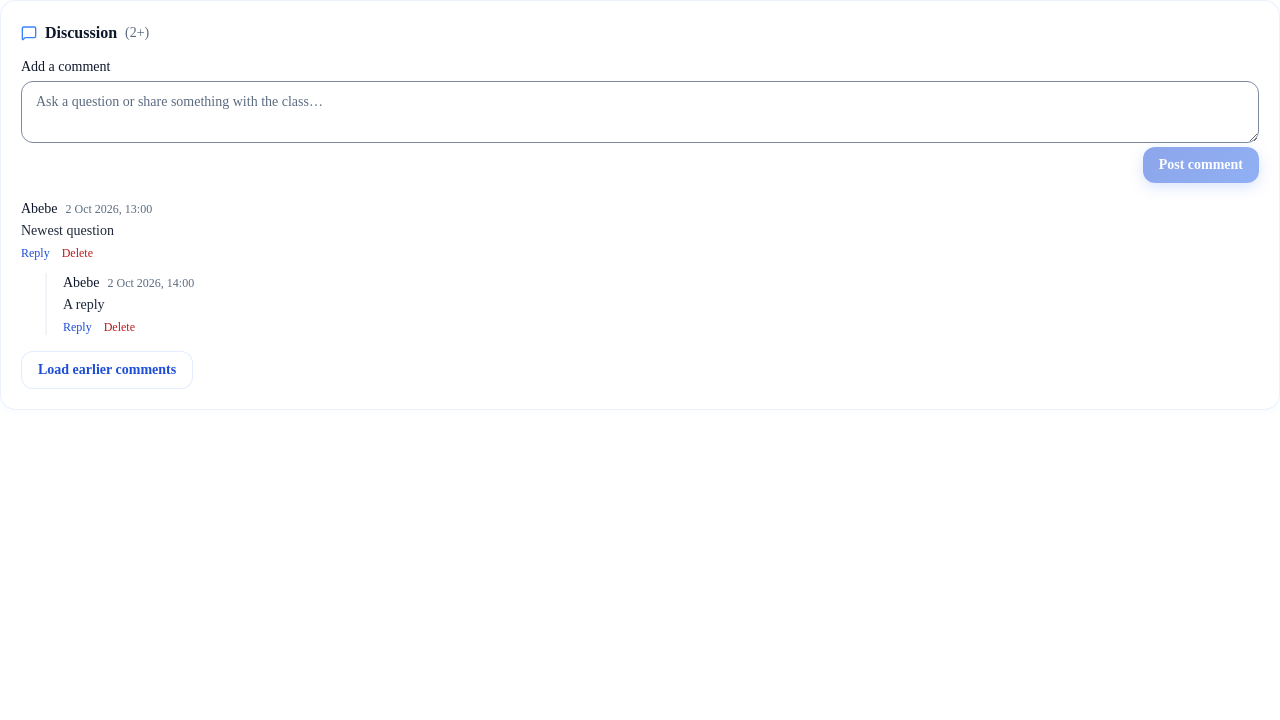
Test: CommentsSection › keeps a discussion that drops off the live page and shows a reply posted under an earlier one
Click the button "Load earlier comments" at (107, 370), box [21,351,193,389]
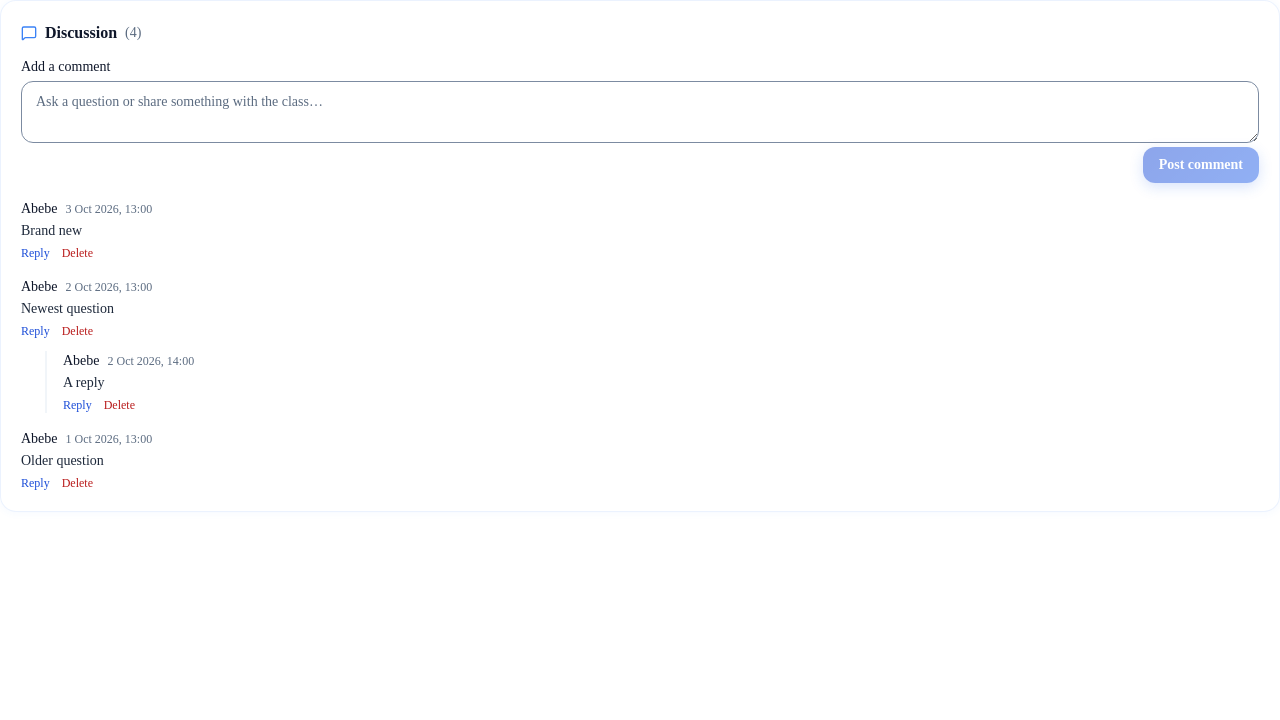
Expected: the text "Newest question" is shown, [21,301,114,316]
Now the text "Older question" is shown, box [21,453,104,468]
Now the text "Brand new" is shown, box [21,223,82,238]
Click the button "Reply" below "A reply" at (77, 405), box [63,397,92,413]
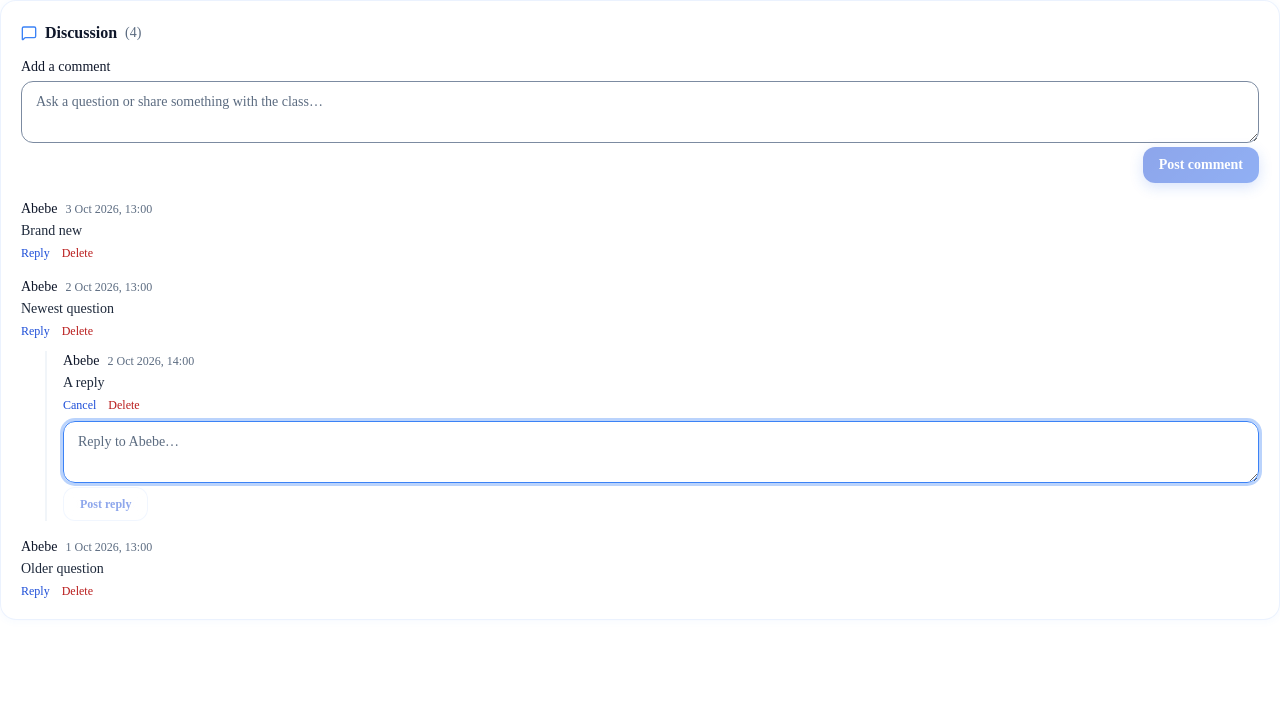
Type "My reply" into the text box labelled "Reply to Abebe" at (661, 452), box [63,421,1259,483]
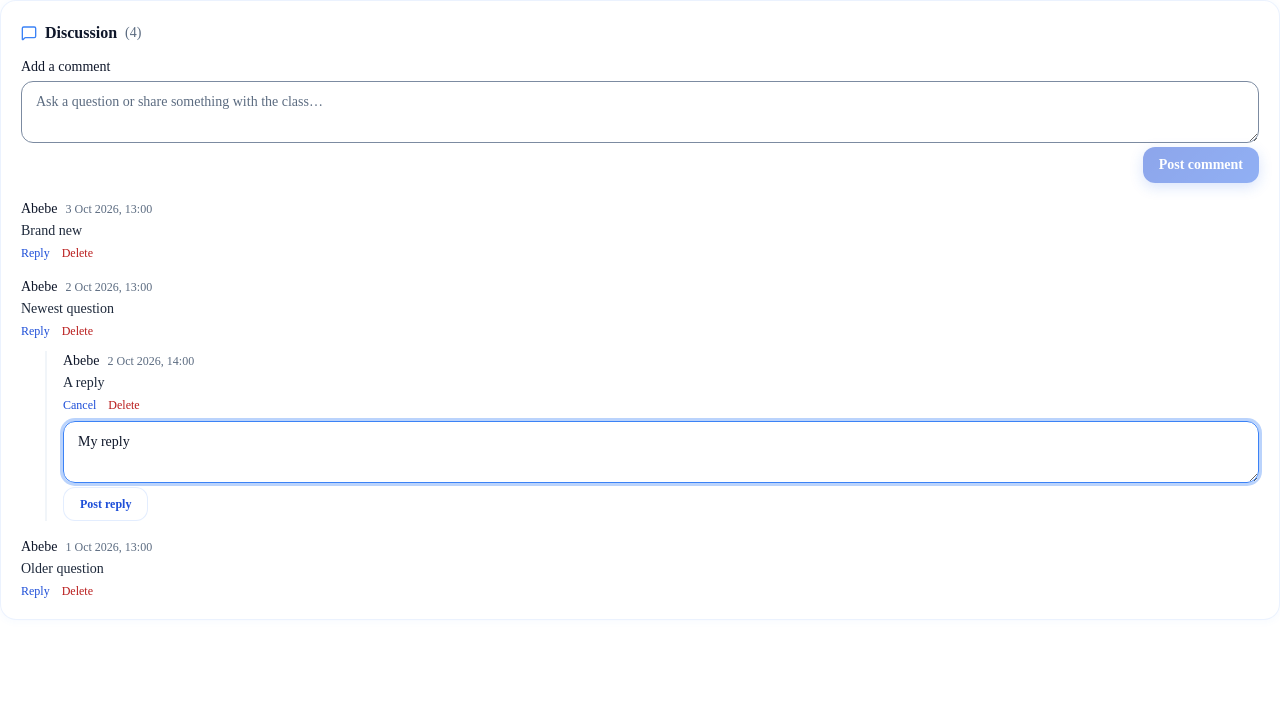
Click the button "Post reply" at (106, 504), box [63,487,148,521]
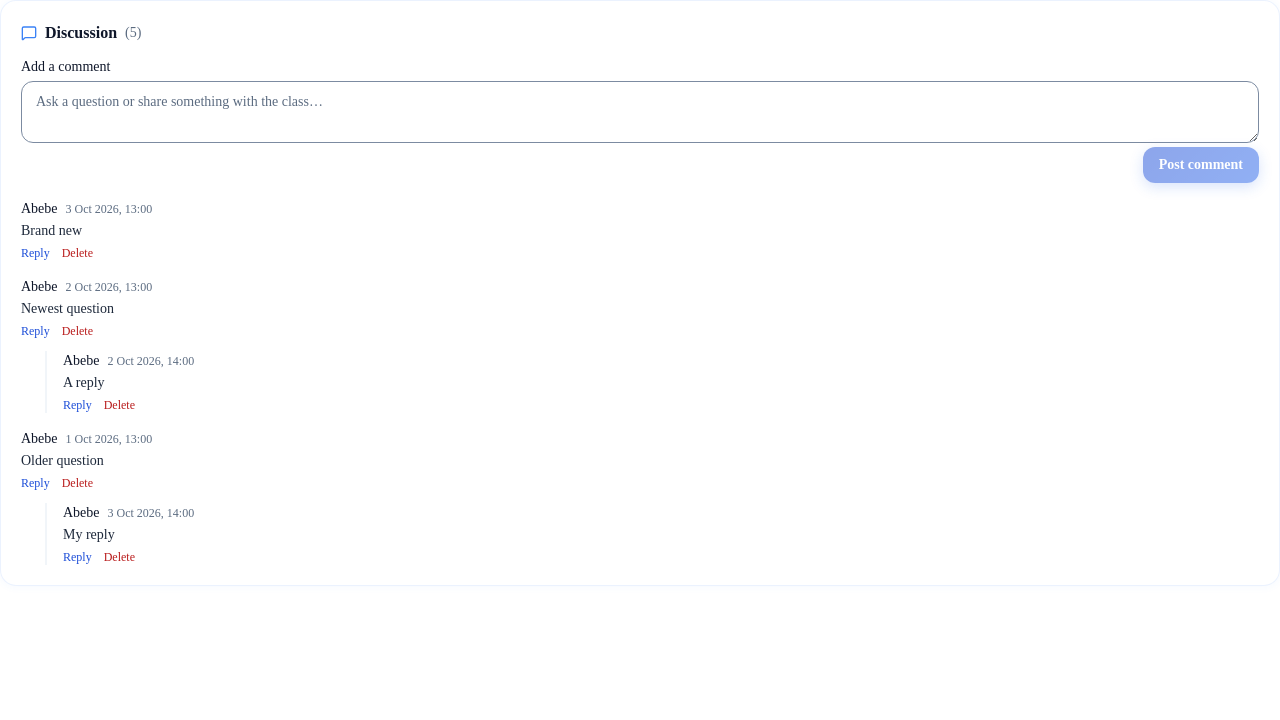
Now the text "My reply" is shown, box [63,527,115,542]
